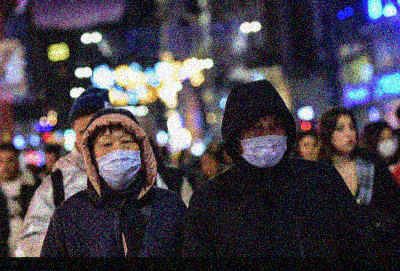with_mask: (91, 132, 143, 190), (239, 112, 290, 168), (378, 132, 399, 157)
without_mask: (333, 119, 360, 156), (1, 156, 20, 182)
